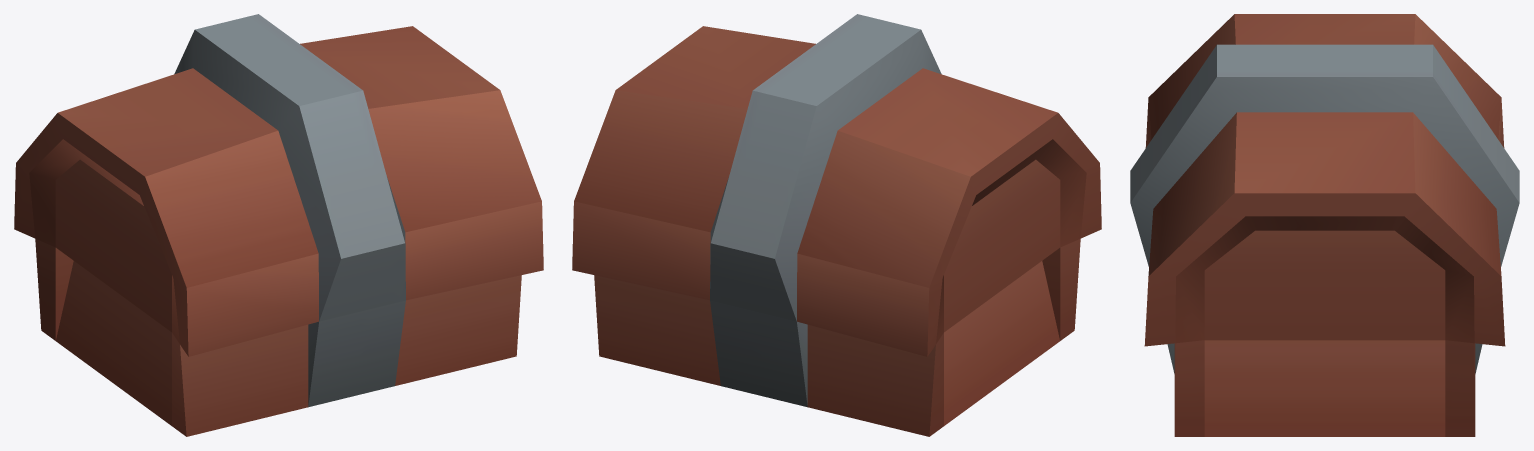
Rendered from d_kaykit_malle.glb.
3 views of the same model, side by side, from view 1: azimuth 30°, elevation 25°; view 2: azimuth 150°, elevation 25°; view 3: azimuth 270°, elevation 25° (orthographic). The views are drawn at different scales.
Visible parts, largest first — view 1: d_kaykit_malle; view 2: d_kaykit_malle; view 3: d_kaykit_malle.
Boxes of the visible parts, box(x1,y1,x2,y2) form: d_kaykit_malle: box(14, 14, 543, 436); d_kaykit_malle: box(572, 14, 1101, 436); d_kaykit_malle: box(1130, 14, 1519, 436).
Size of the model in its own units: 0.953 by 0.7265 by 0.8751.
1 material, 1 textured.
